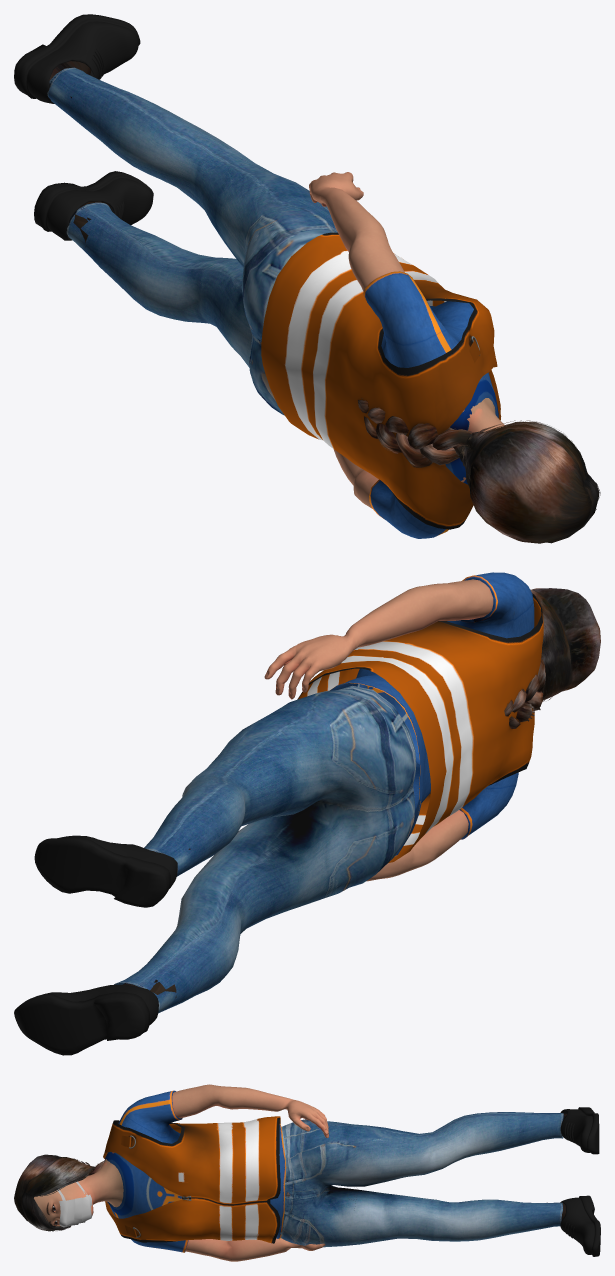
Rendered from worker_shelf_observe.obj.
The picture shows the model from 3 angles, top to bottom: view 1: azimuth 30°, elevation 25°; view 2: azimuth 150°, elevation 25°; view 3: azimuth 270°, elevation 25°; orthographic projection. The views are drawn at different scales.
Visible parts, largest first — view 1: worker_shelf_observe; view 2: worker_shelf_observe; view 3: worker_shelf_observe.
Boxes of the visible parts, <box> form: worker_shelf_observe: <box>14,14,600,543</box>; worker_shelf_observe: <box>14,572,600,1055</box>; worker_shelf_observe: <box>14,1084,600,1261</box>.
Size of the model in its own units: 0.3128 by 0.5463 by 1.71.
7 materials, 7 textured.
